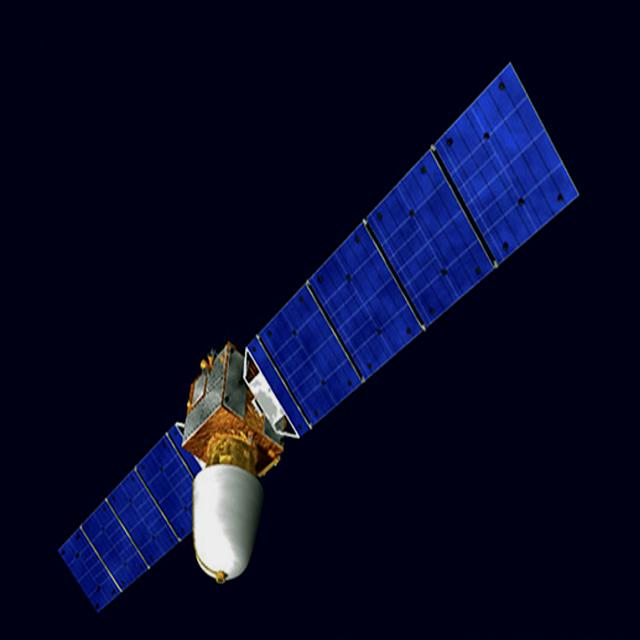satellite: (58, 49, 585, 620)
